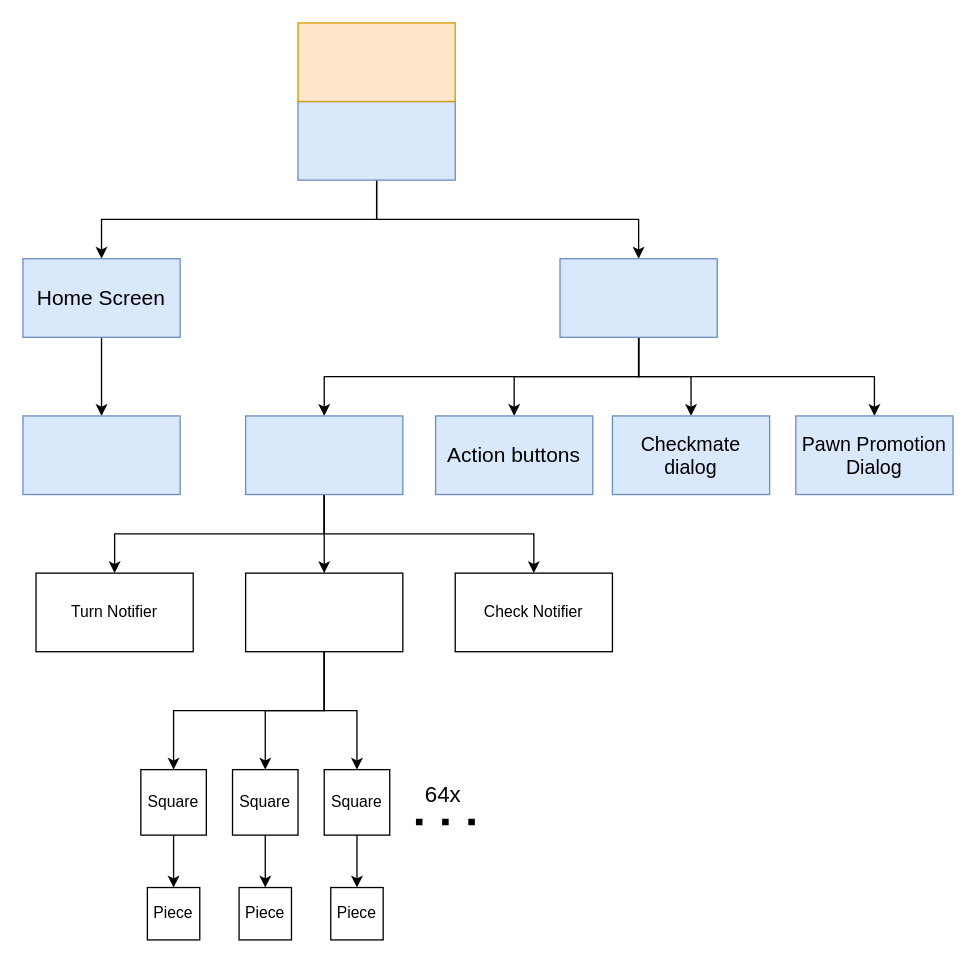
Some shapes in this 976 by 963 pixel diagram are drawn without their labels. The shapes that lost their labels are listed below. From the top down, each one's centre as x and y in pixels, then its label:
At (376,62): "Game Provider".
At (376,140): "App".
At (638,297): "Game Screen".
At (101,455): "Start new game prompt".
At (323,455): "Game View".
At (323,612): "Chess Board".
